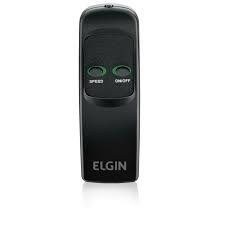remote control: (78, 5, 142, 185)
